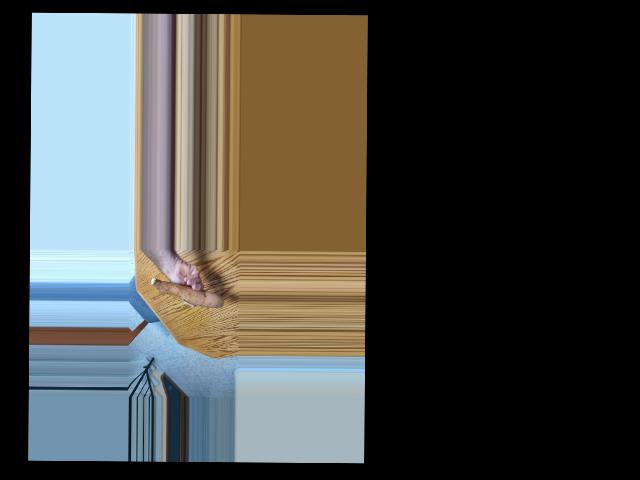sweet_potato: (151, 271, 220, 311)
